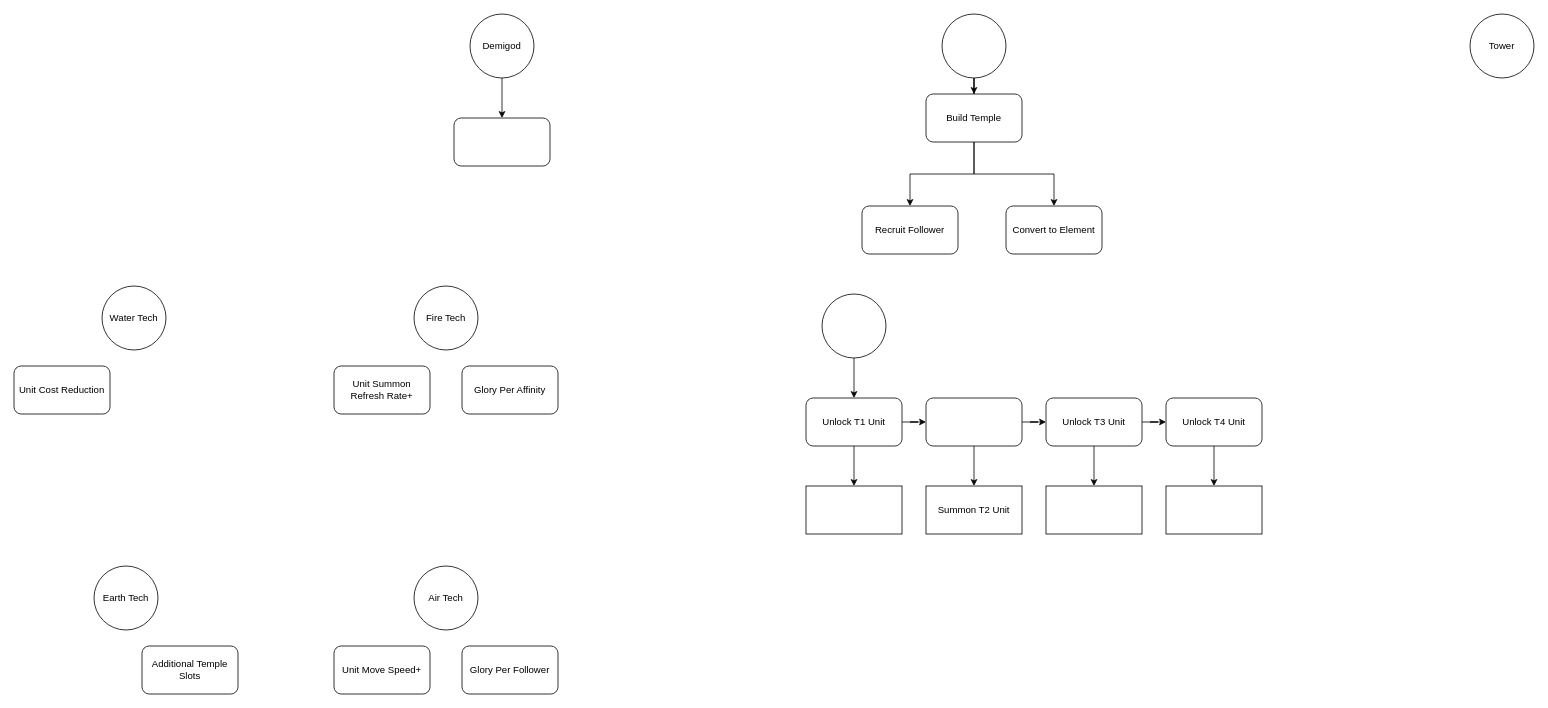
The diagram is 1548 pixels wide and 708 high, and some of its shapes have lost their labels. Here are the shapes that lost their labels. From the top down, the centre of each, then its label:
At point (973, 45): "Temple".
At point (501, 141): "Research Elemental Tech".
At point (853, 325): "Elemental Temple".
At point (973, 421): "Unlock T2 Unit".
At point (853, 509): "Summon T1 Unit".
At point (1093, 509): "Summon T3 Unit".
At point (1213, 509): "Summon T4 Unit".
